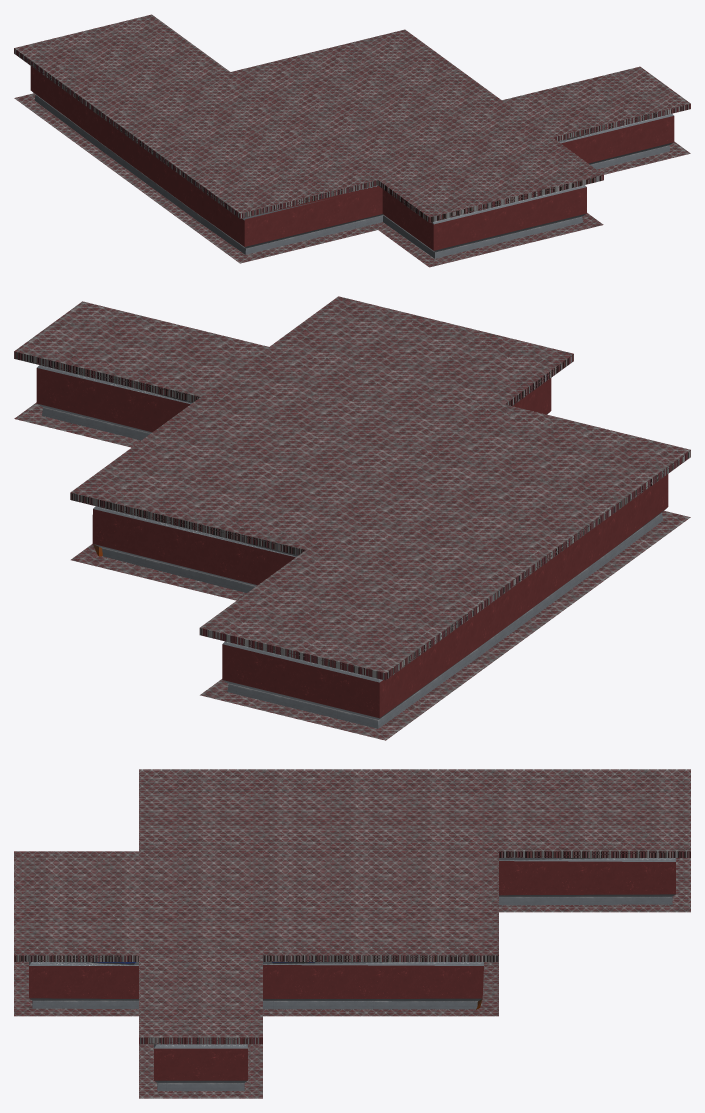
File: Level.fbx
3 views of the same model, one above another, from view 1: azimuth 30°, elevation 25°; view 2: azimuth 150°, elevation 25°; view 3: azimuth 270°, elevation 25° (orthographic). The views are drawn at different scales.
Visible parts, largest first — view 1: floor.001, wall, floor; view 2: floor.001, wall, floor; view 3: floor.001, wall, floor.
Part boxes in pixels (box(x1,y1,x2,y2)): floor.001: box(14, 14, 690, 222); wall: box(30, 66, 674, 258); floor: box(14, 93, 690, 267); floor.001: box(14, 296, 690, 680); wall: box(36, 365, 668, 728); floor: box(14, 402, 690, 740); floor.001: box(14, 769, 690, 1044); wall: box(29, 858, 675, 1090); floor: box(14, 858, 690, 1098).
Bounding box in the file's own units: 5077 × 540 × 5411.
